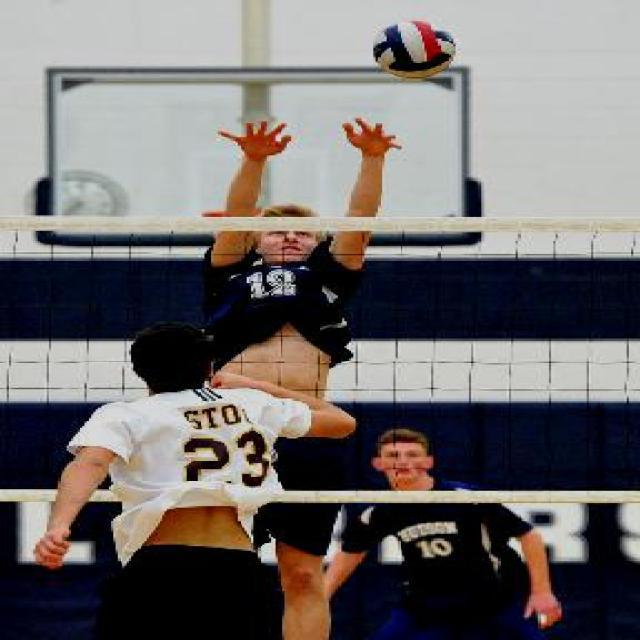volleyball: (373, 21, 456, 78)
